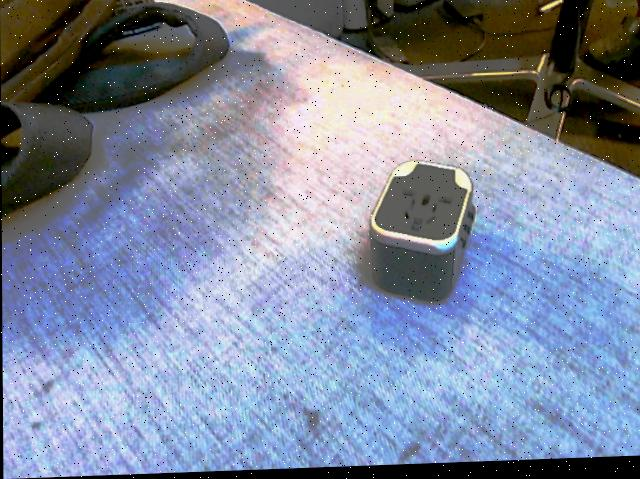adapter: (366, 161, 475, 306)
